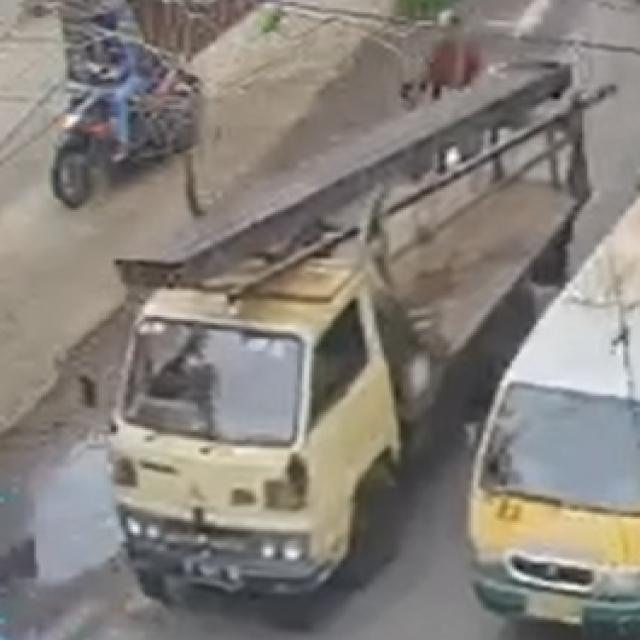truck: (83, 221, 443, 609)
